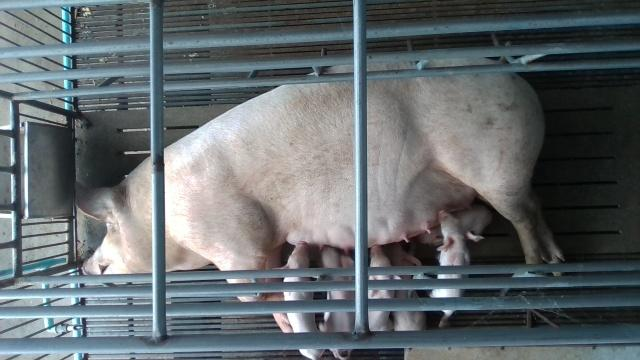piglet: (428, 209, 485, 329), (276, 242, 324, 360), (319, 246, 355, 360), (386, 242, 427, 331), (419, 207, 494, 245), (368, 246, 393, 331)
sow-sleep-lactate: (72, 57, 566, 333)
